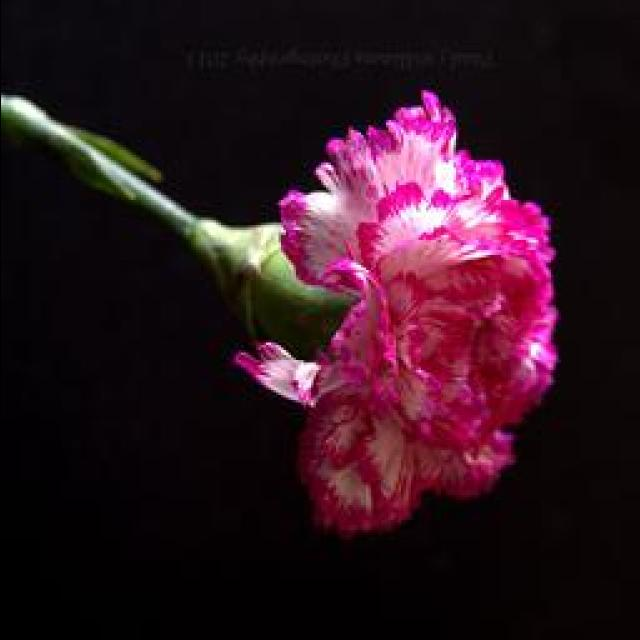carnation: (164, 71, 600, 551)
